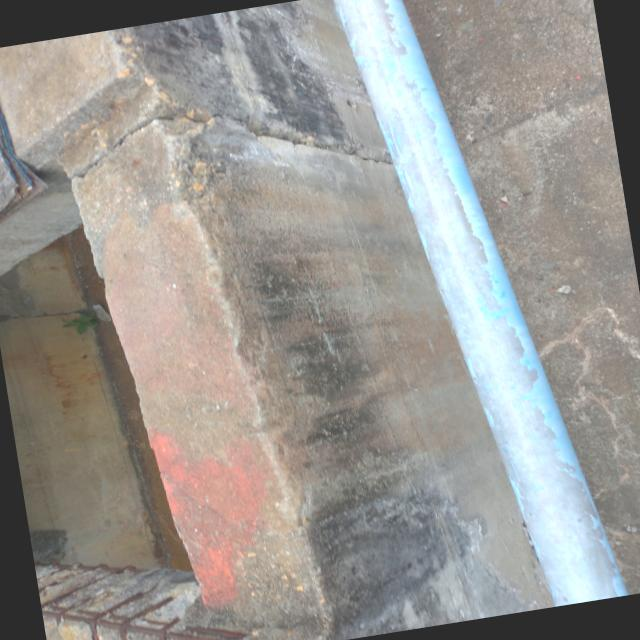gas: (341, 0, 630, 607)
